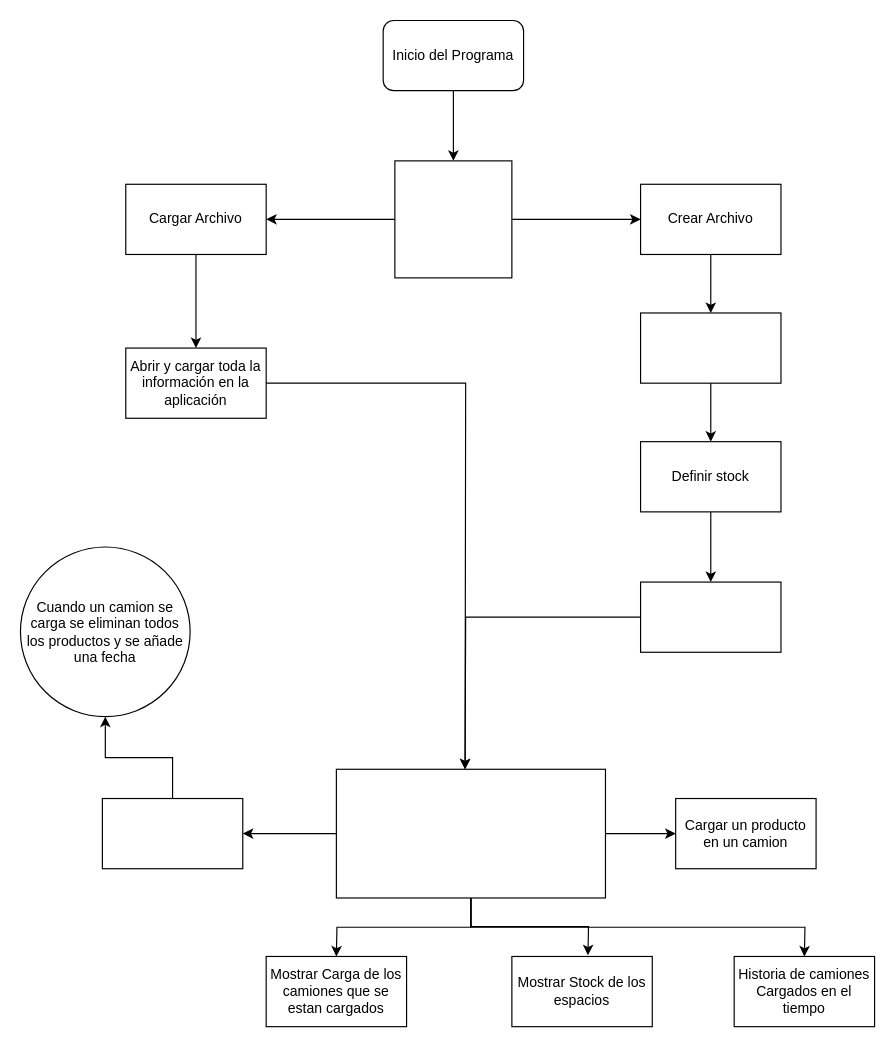
Some shapes in this 895 by 1047 pixel diagram are drawn without their labels. Here are the shapes that lost their labels. From the top down, the centre of each, then its label:
point (453, 219): Dos Opciones
point (710, 347): Definir los espacios
point (710, 616): Definir camiones
point (172, 833): Definir que tiene que cargar un camion
point (470, 833): 5 Opciones de programa
